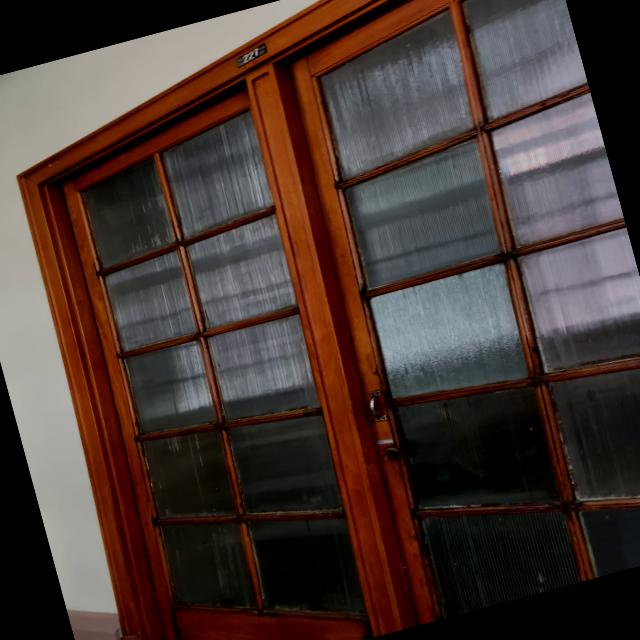room227: (228, 39, 272, 70)
